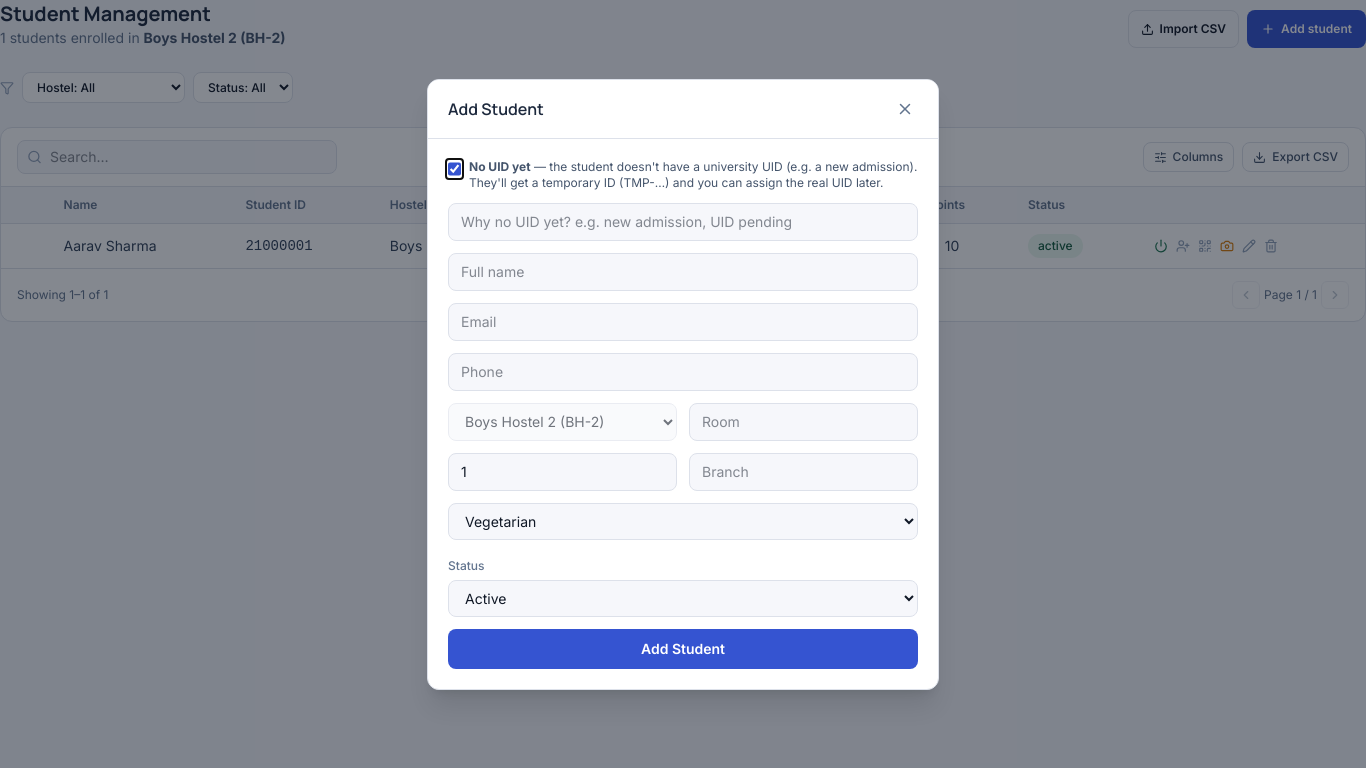
Test: Students — hostel-capacity errors reach the person › closes the form and refreshes when the add succeeds
The width and height of the screenshot is (1366, 768).
Earlier steps of the test are not shown.
Type "new admission, UID pending" into the field named "reason there is no uid".
click(683, 222); type("new admission, UID pending")  # box [448,202,918,240]
Type "Overflow Student" into the field with placeholder "Full name".
click(683, 272); type("Overflow Student")  # box [448,252,918,290]
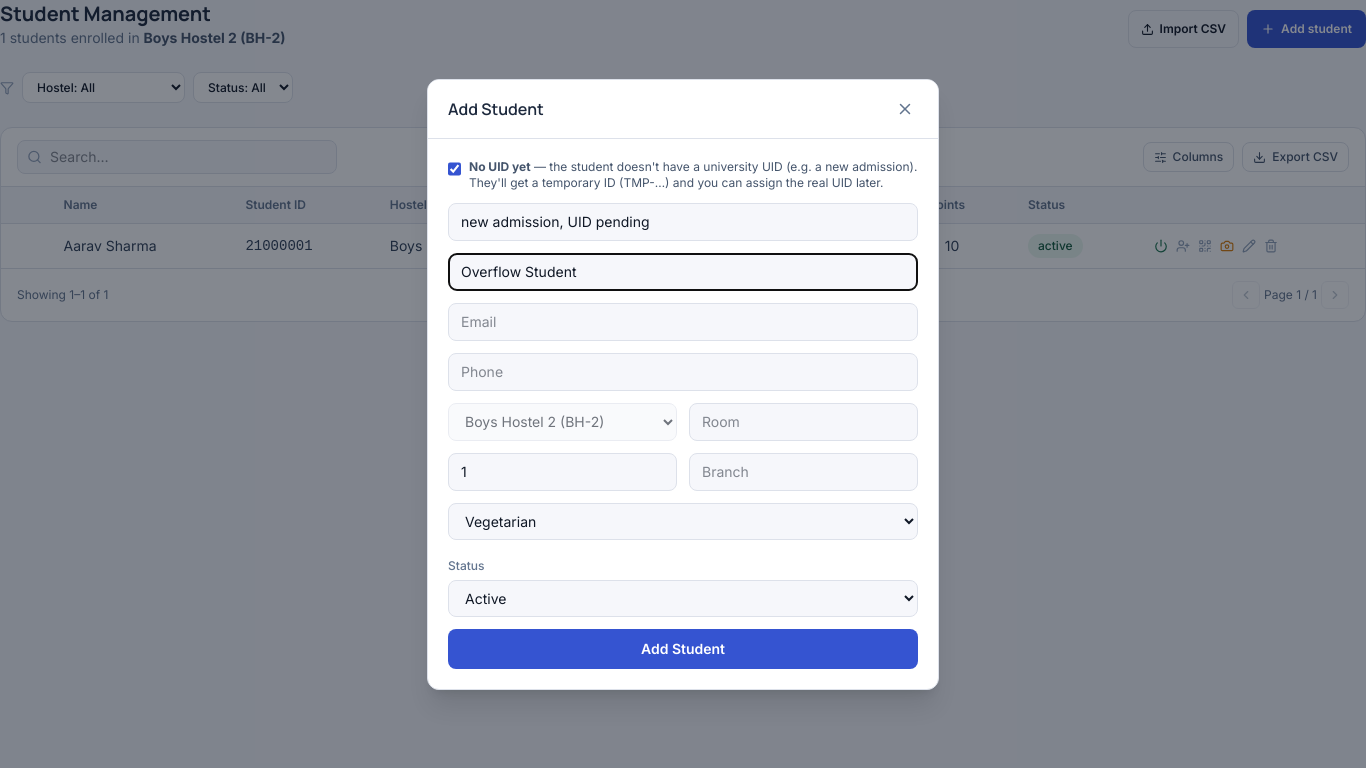
Type "overflow@x.edu" into the field with placeholder "Email".
click(683, 322); type("overflow@x.edu")  # box [448,302,918,340]
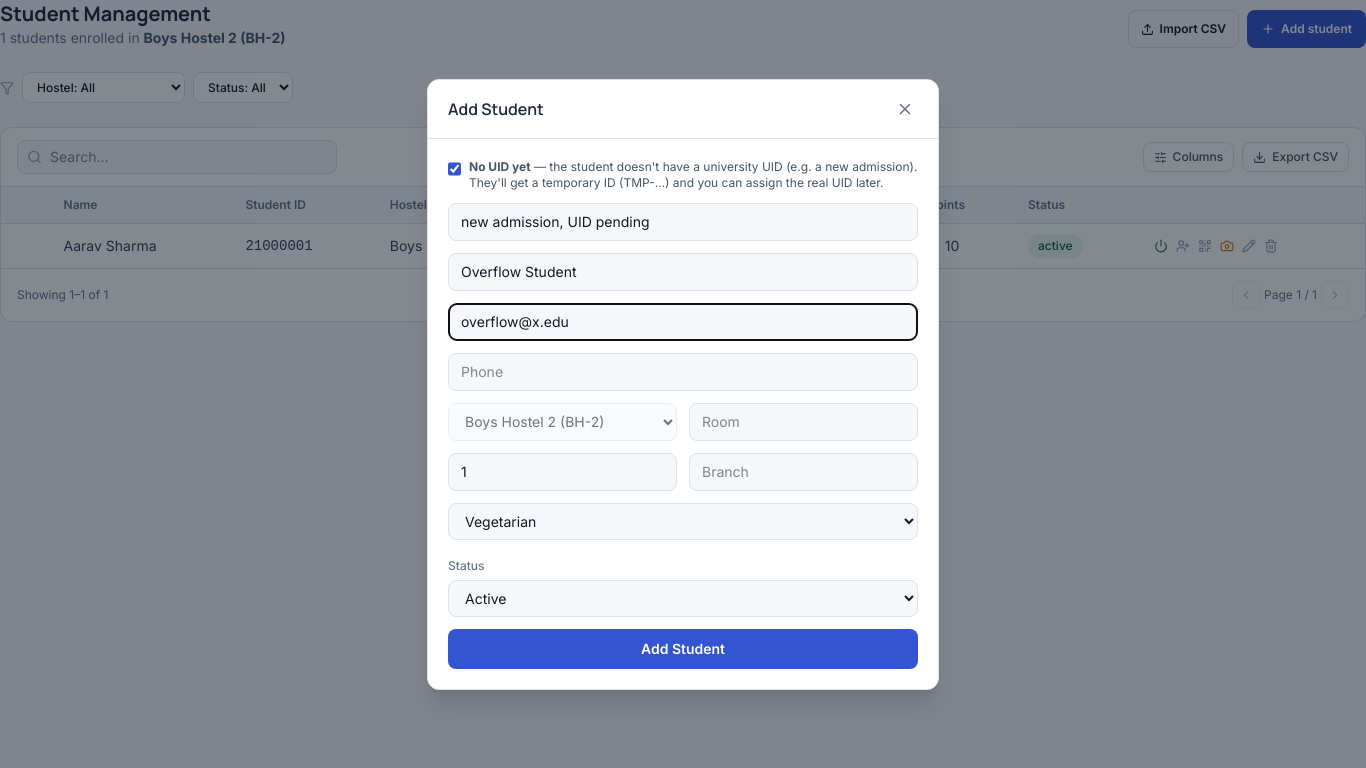
Type "9000000099" into the field with placeholder "Phone".
click(683, 372); type("9000000099")  # box [448,352,918,390]
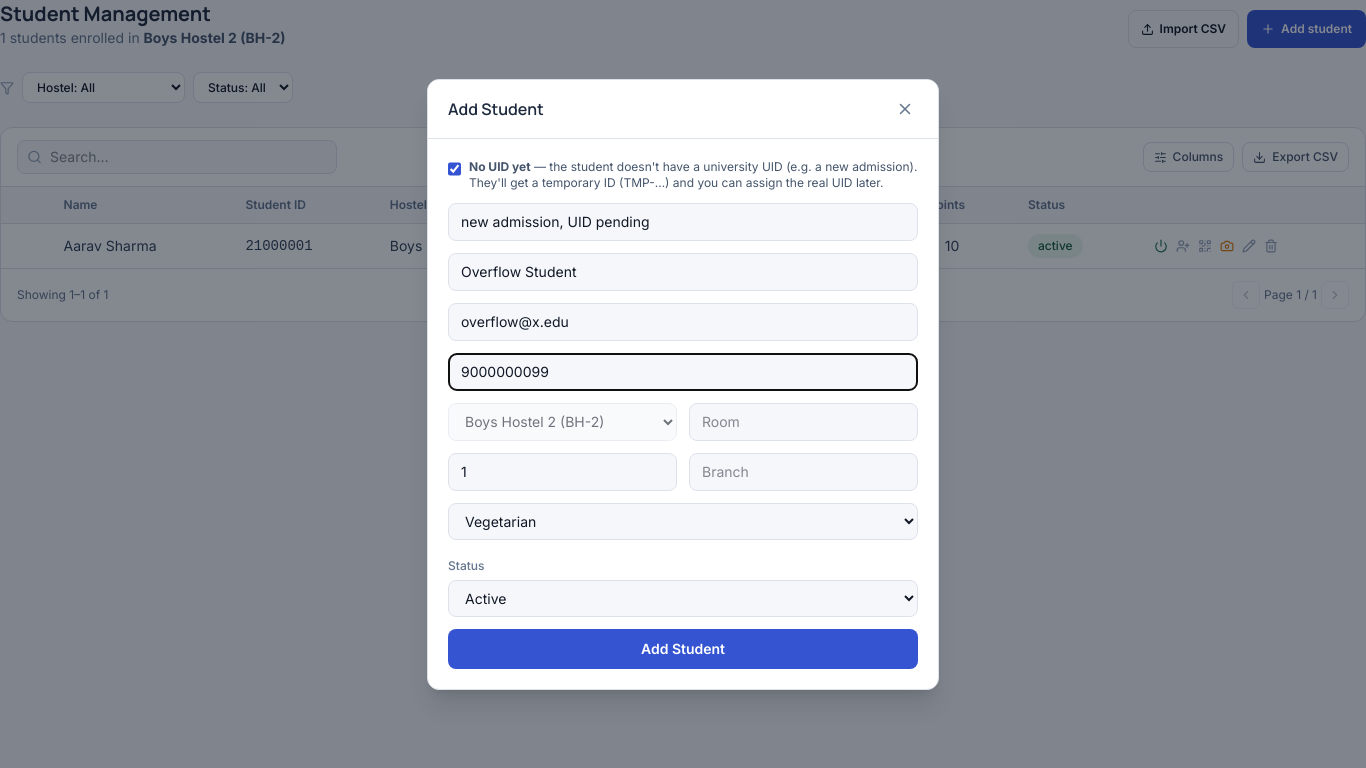
Type "Z-9" into the field with placeholder "Room".
click(804, 422); type("Z-9")  # box [689,402,918,440]
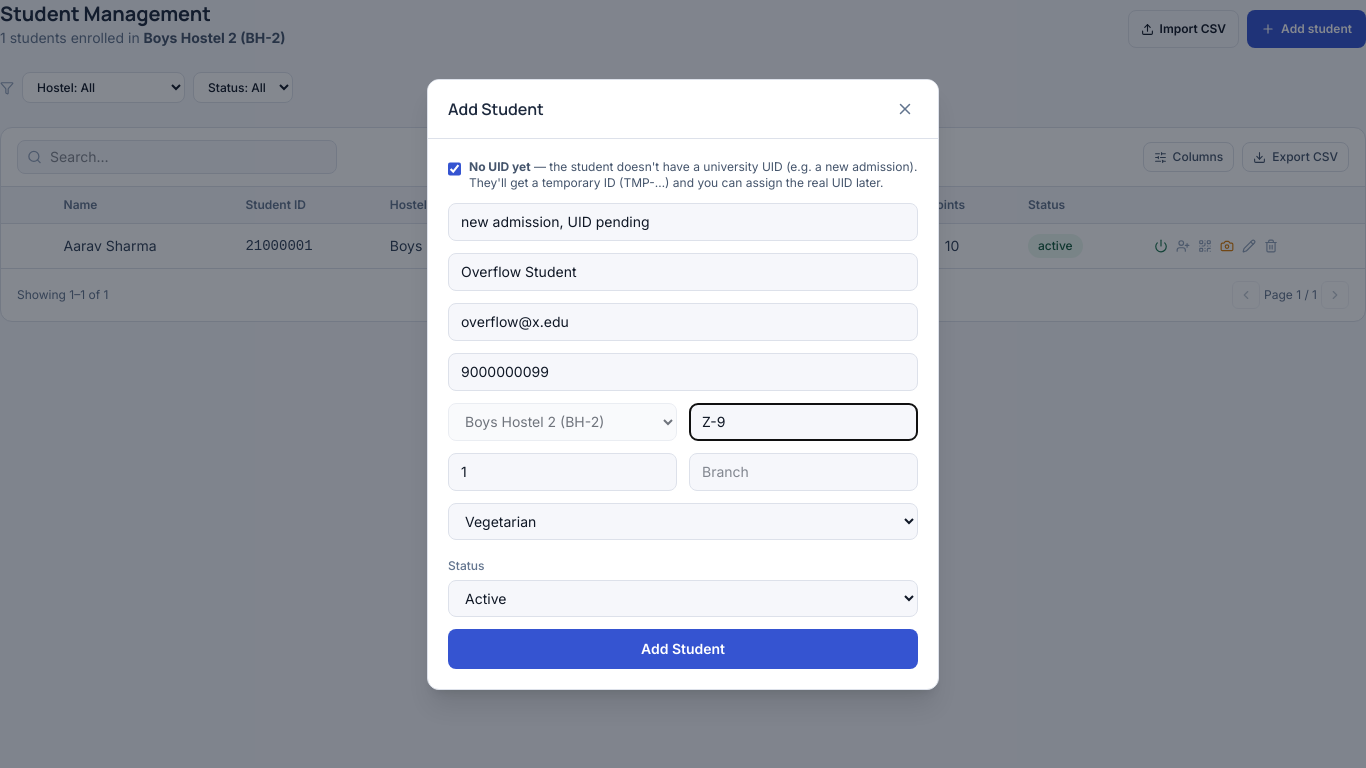
Type "Civil" into the field with placeholder "Branch".
click(804, 472); type("Civil")  # box [689,452,918,490]
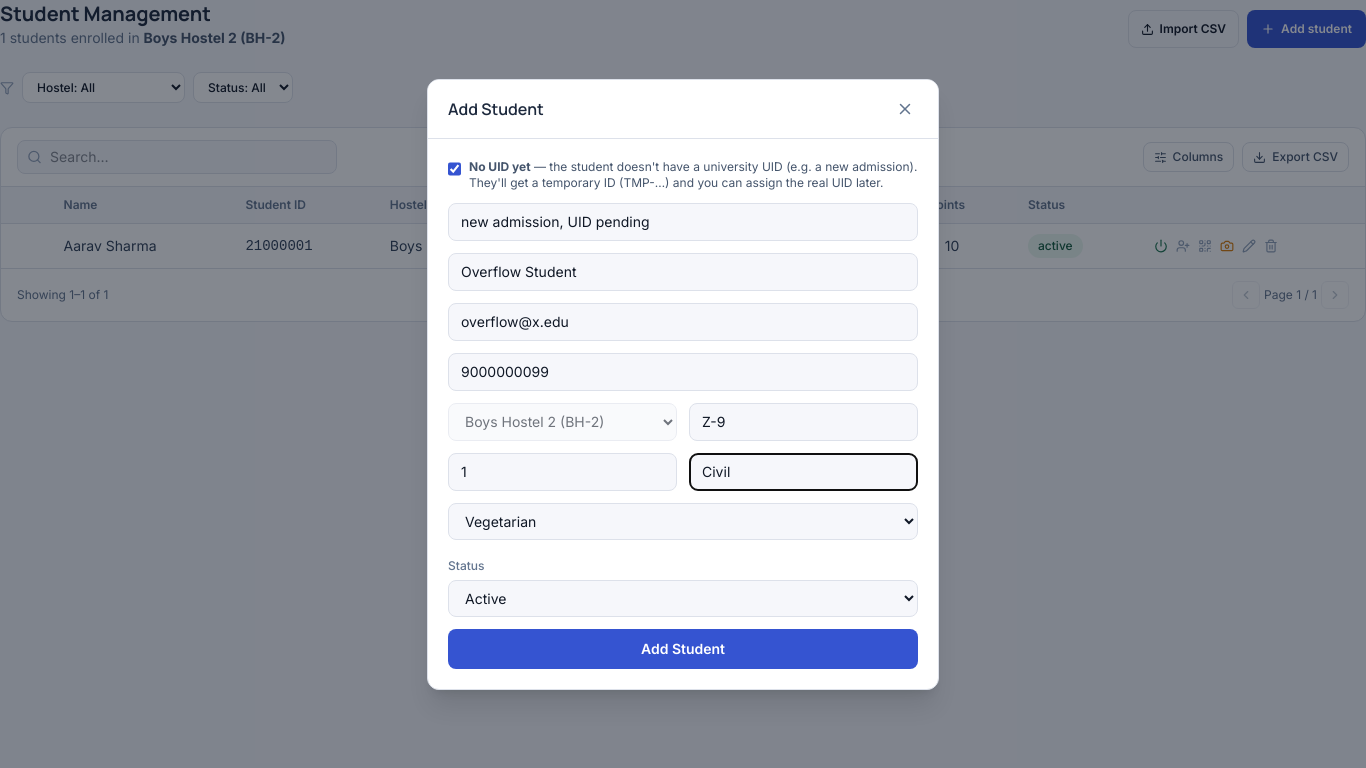
Click the button "Add Student".
click(683, 648)  # box [448,628,918,668]
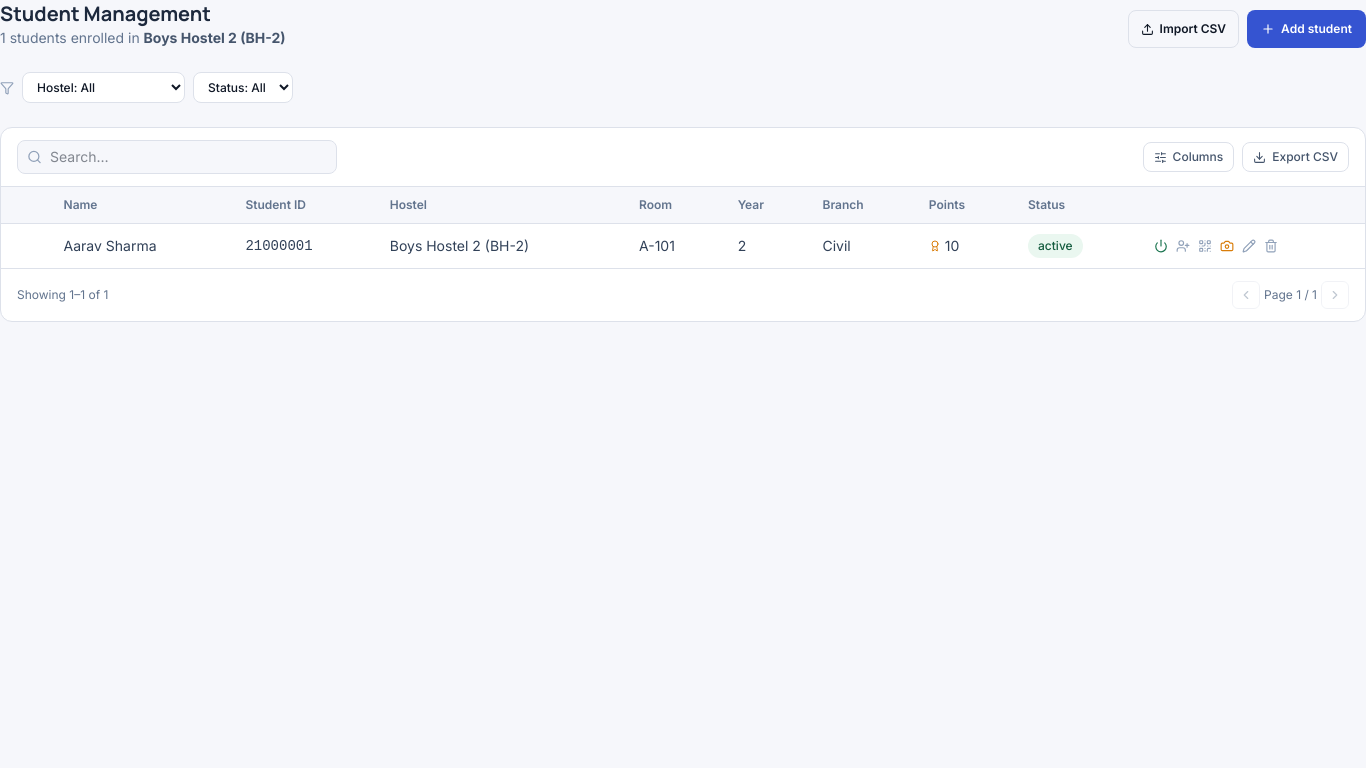
Result: the field with placeholder "Full name" is gone
